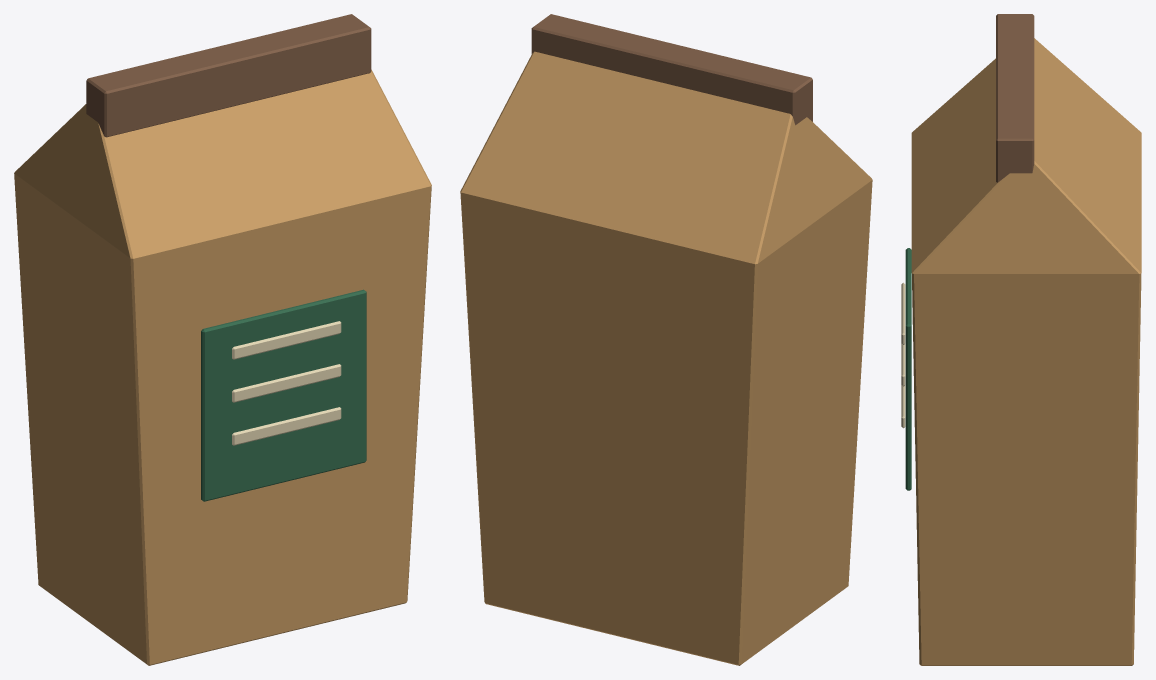
Rendered from b04_folded_top_paper_leaf_sack.glb.
3 renders of one model, left to right at view 1: azimuth 30°, elevation 25°; view 2: azimuth 150°, elevation 25°; view 3: azimuth 270°, elevation 25°, orthographic. The views are drawn at different scales.
Parts seen in each view (by area): view 1: b04_folded_top_paper_leaf_sack; view 2: b04_folded_top_paper_leaf_sack; view 3: b04_folded_top_paper_leaf_sack.
Boxes of the visible parts, x1=… form: b04_folded_top_paper_leaf_sack: x1=14, y1=14, x2=431, y2=665; b04_folded_top_paper_leaf_sack: x1=460, y1=14, x2=872, y2=665; b04_folded_top_paper_leaf_sack: x1=901, y1=14, x2=1141, y2=665.
Bounding box in the file's own units: 0.44 × 0.7625 × 0.3135.
